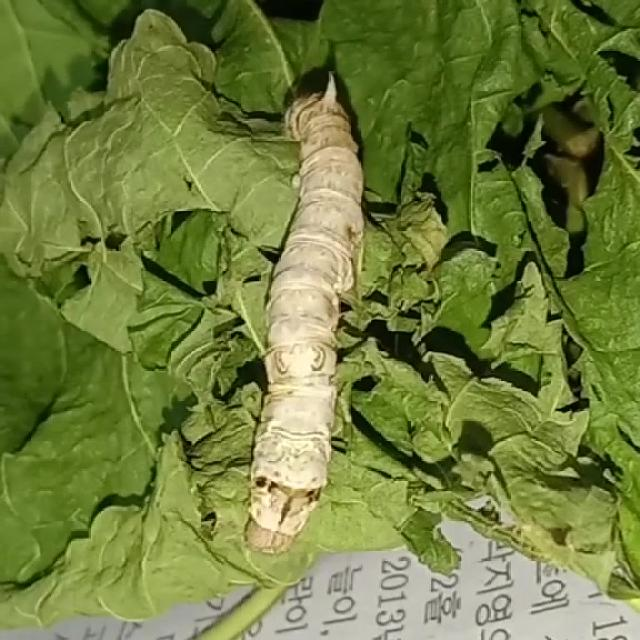Grasserie: (198, 54, 387, 579)
